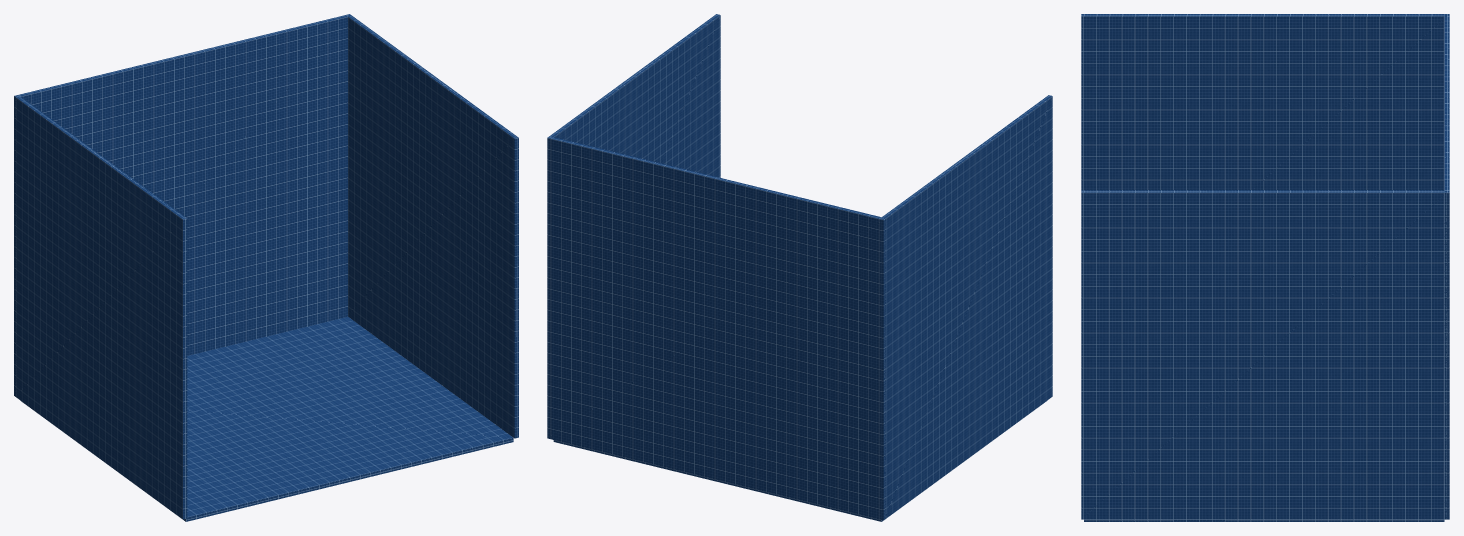
File: PROP_BG_BLUEPRINT.glb
The picture shows the model from 3 angles, left to right: view 1: azimuth 30°, elevation 25°; view 2: azimuth 150°, elevation 25°; view 3: azimuth 270°, elevation 25°; orthographic projection. The views are drawn at different scales.
Parts seen in each view (by area): view 1: PROP_BG_BLUEPRINT_1, PROP_BG_BLUEPRINT_2, PROP_BG_BLUEPRINT_3, PROP_BG_BLUEPRINT_0; view 2: PROP_BG_BLUEPRINT_1, PROP_BG_BLUEPRINT_2, PROP_BG_BLUEPRINT_3, PROP_BG_BLUEPRINT_0; view 3: PROP_BG_BLUEPRINT_3, PROP_BG_BLUEPRINT_2, PROP_BG_BLUEPRINT_1, PROP_BG_BLUEPRINT_0.
Boxes of the visible parts, x1,y1,x2,y2 form: PROP_BG_BLUEPRINT_1: (14, 14, 351, 396); PROP_BG_BLUEPRINT_2: (15, 96, 187, 519); PROP_BG_BLUEPRINT_3: (348, 16, 518, 438); PROP_BG_BLUEPRINT_0: (21, 316, 513, 521); PROP_BG_BLUEPRINT_1: (547, 136, 885, 520); PROP_BG_BLUEPRINT_2: (881, 95, 1052, 518); PROP_BG_BLUEPRINT_3: (549, 14, 720, 177); PROP_BG_BLUEPRINT_0: (553, 400, 1047, 521); PROP_BG_BLUEPRINT_3: (1081, 190, 1446, 519); PROP_BG_BLUEPRINT_2: (1081, 14, 1446, 190); PROP_BG_BLUEPRINT_1: (1444, 14, 1449, 519); PROP_BG_BLUEPRINT_0: (1084, 519, 1444, 521).
Size of the model in its own units: 16.4 by 14.2 by 14.3.
1 material, 1 textured.
